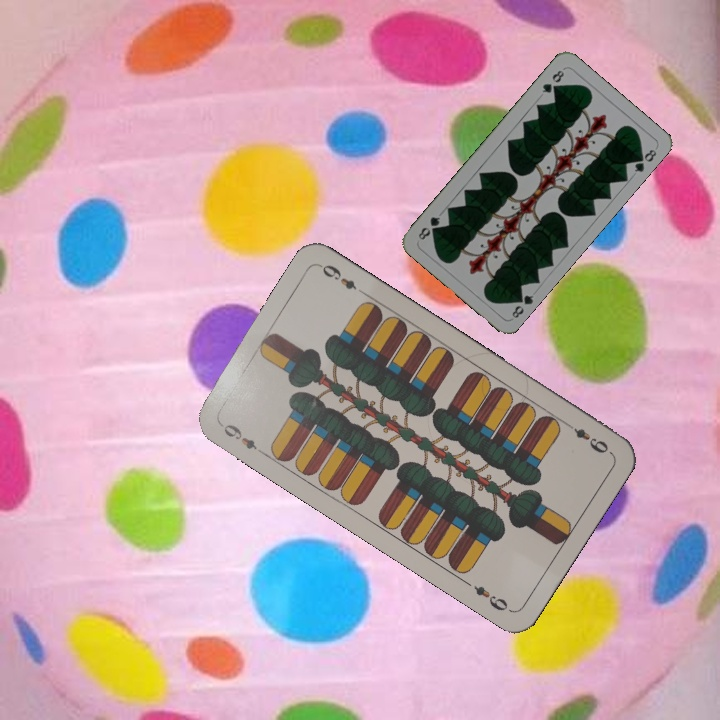E9: (561, 419, 614, 456), (219, 420, 268, 456)
G8: (508, 289, 536, 321), (538, 66, 567, 96)
